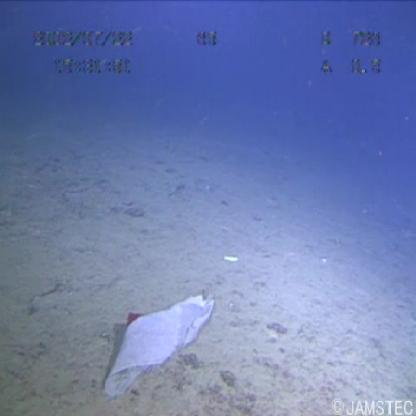Rác: (81, 281, 220, 403)
